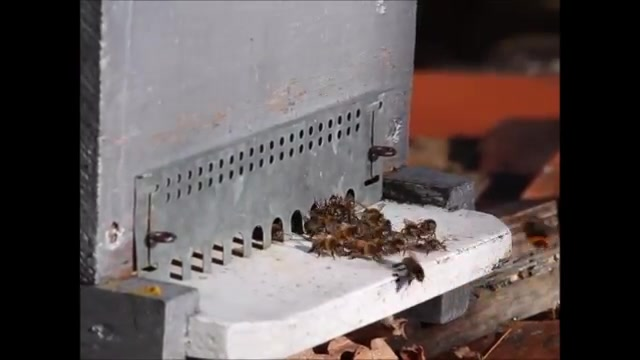bee: (395, 257, 426, 281), (345, 238, 384, 257), (360, 207, 388, 232), (408, 217, 436, 239), (310, 236, 342, 255), (331, 204, 355, 223)
hornet: (516, 214, 554, 253)
